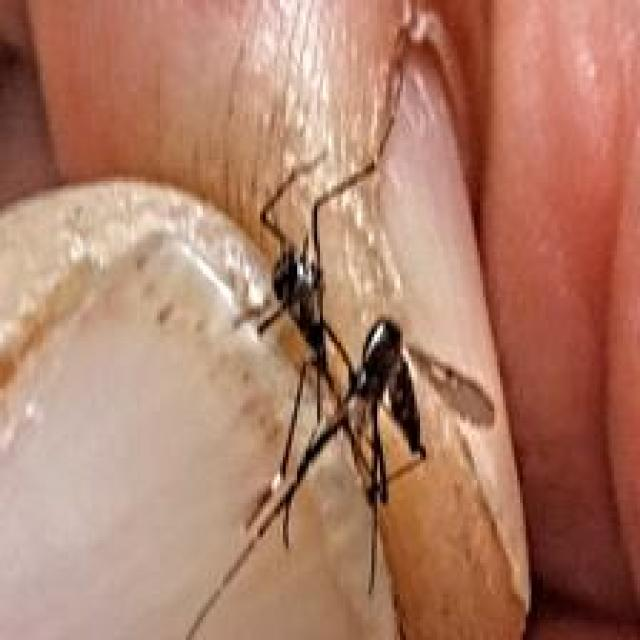Aedes albopictus: (176, 17, 498, 640)
